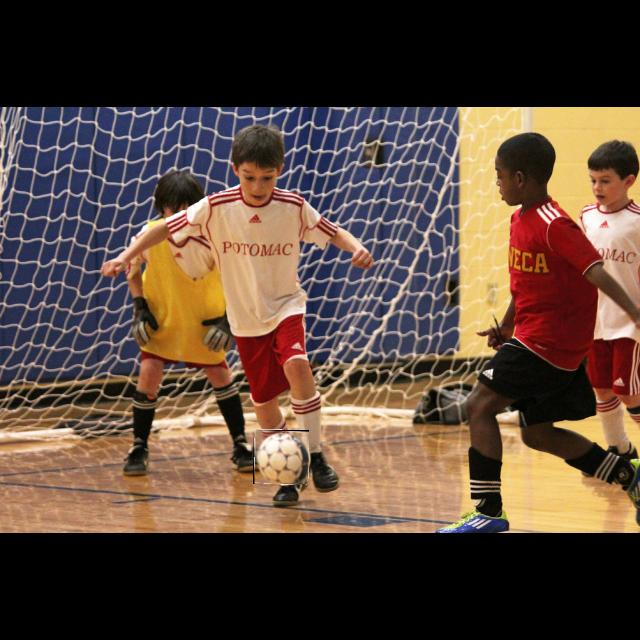Football: (253, 430, 309, 484)
